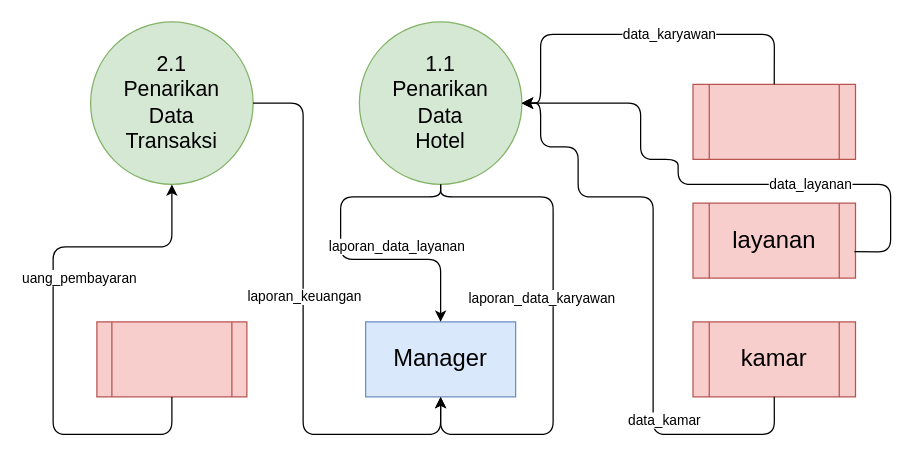
Some shapes in this 923 by 466 pixel diagram are drawn without their labels. Here are the shapes that lost their labels. From the top down, the centre of each, then its label:
At [774,121]: "karyawan".
At [171,359]: "transaksi".
